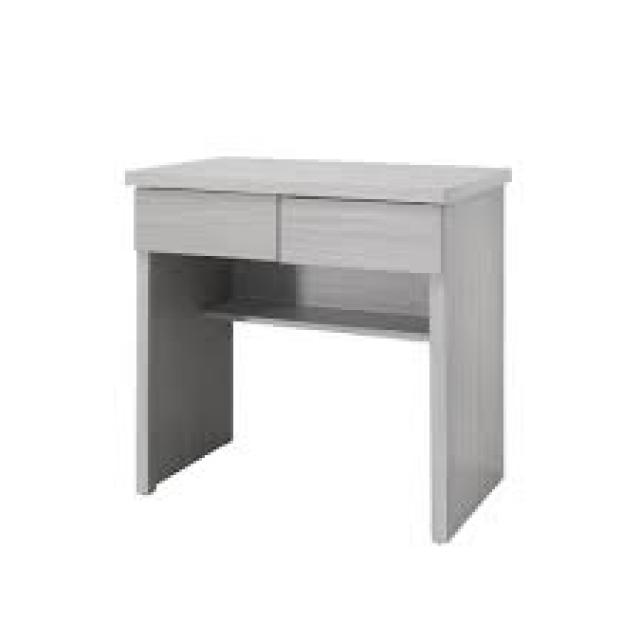Table: (98, 124, 533, 572)
